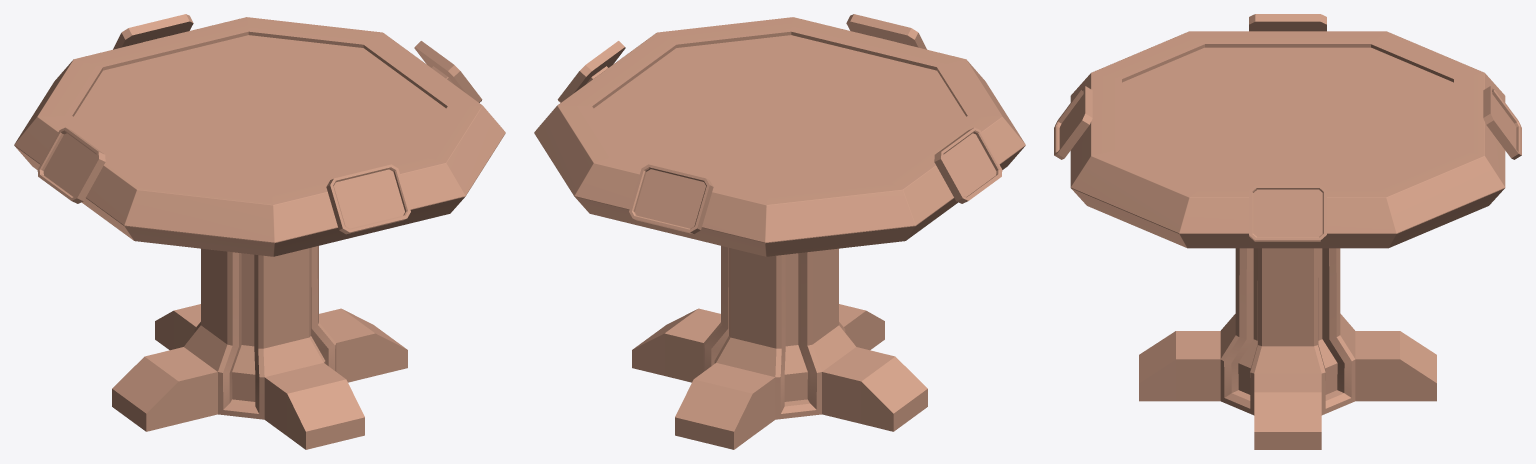
Rendered from MesaNeon.fbx.
3 renders of one model, left to right at view 1: azimuth 30°, elevation 25°; view 2: azimuth 150°, elevation 25°; view 3: azimuth 270°, elevation 25°, orthographic.
Parts seen in each view (by area): view 1: polySurface55; view 2: polySurface55; view 3: polySurface55.
Boxes of the visible parts, x1=… form: polySurface55: x1=14, y1=14, x2=505, y2=449; polySurface55: x1=534, y1=14, x2=1025, y2=449; polySurface55: x1=1054, y1=14, x2=1521, y2=449.
Bounding box in the file's own units: 2.9 × 1.96 × 2.9.
